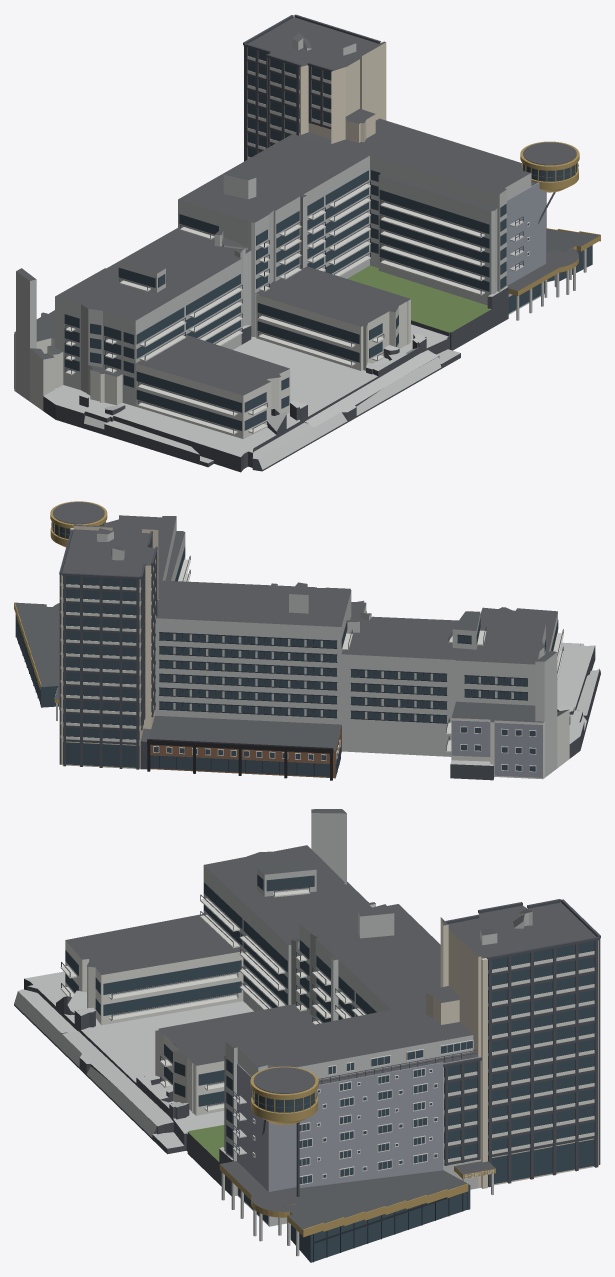
File: byzantium.glb
3 renders of one model, top to bottom at view 1: azimuth 30°, elevation 25°; view 2: azimuth 150°, elevation 25°; view 3: azimuth 270°, elevation 25°, orthographic. The views are drawn at different scales.
Parts seen in each view (by area): view 1: byzantium; view 2: byzantium; view 3: byzantium.
Part boxes in pixels (box(x1,y1,x2,y2)): byzantium: box(14, 14, 600, 472); byzantium: box(14, 501, 600, 780); byzantium: box(14, 809, 600, 1262).
Size of the model in its own units: 117 by 41.3 by 91.15.
